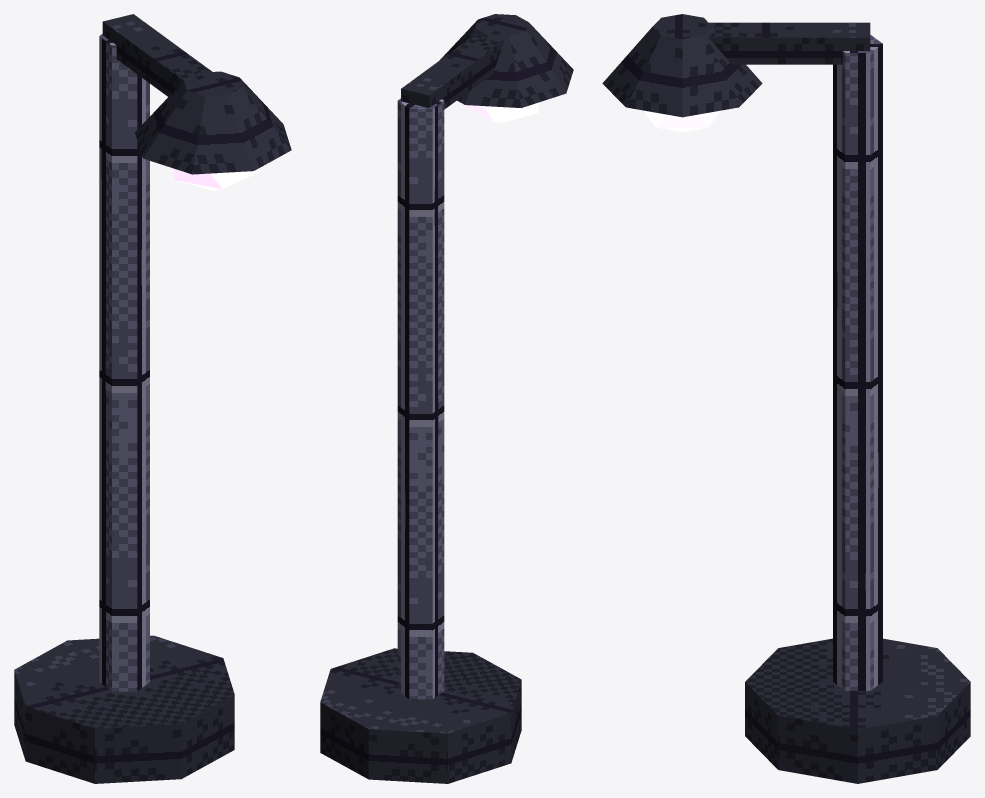
Rendered from rush_lamp.glb.
3 views of the same model, side by side, from view 1: azimuth 30°, elevation 25°; view 2: azimuth 150°, elevation 25°; view 3: azimuth 270°, elevation 25° (orthographic). The views are drawn at different scales.
Visible parts, largest first — view 1: Lamp, Flame; view 2: Lamp, Flame; view 3: Lamp, Flame.
Part boxes in pixels (box(x1,y1,x2,y2)): Lamp: box(14, 14, 291, 783); Flame: box(172, 168, 258, 190); Lamp: box(320, 14, 573, 783); Flame: box(461, 102, 539, 122); Lamp: box(602, 14, 970, 783); Flame: box(643, 110, 721, 132).
Size of the model in its own units: 0.9 by 3.13 by 1.47.
3 materials, 2 textured.
